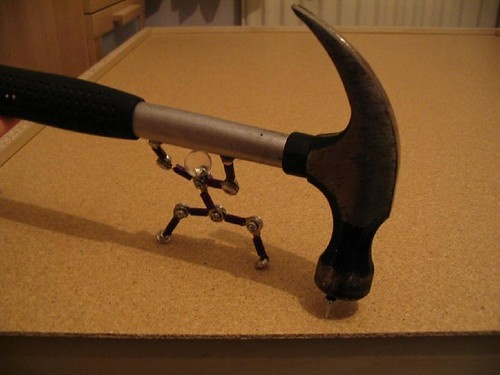hammer: (1, 2, 402, 302)
